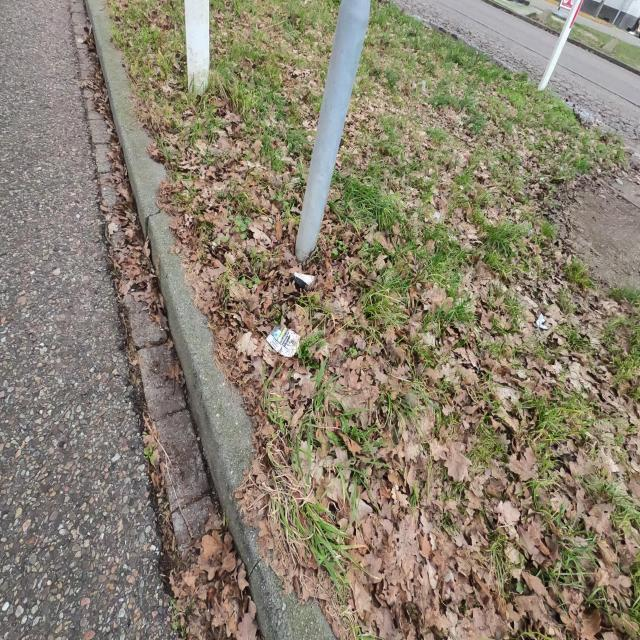Cup: (292, 271, 316, 291)
Paper: (264, 324, 302, 359)
